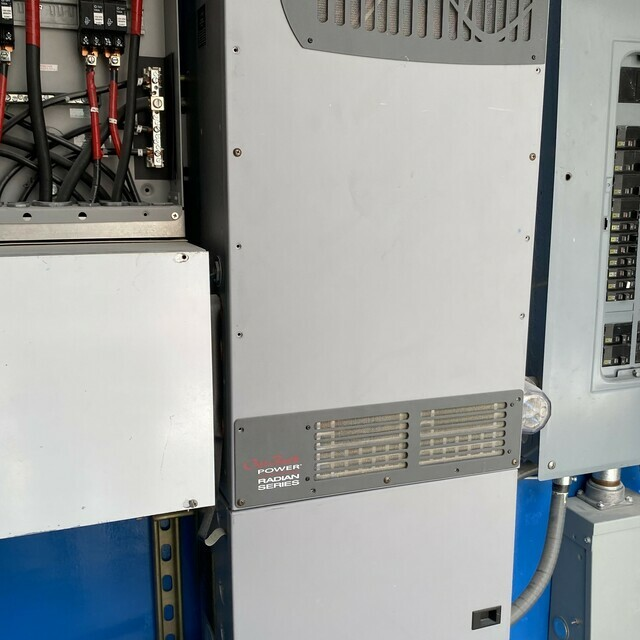inverter: (183, 2, 557, 636)
